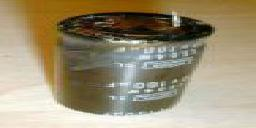Electrolytic-Capacitor: (44, 9, 215, 127)
